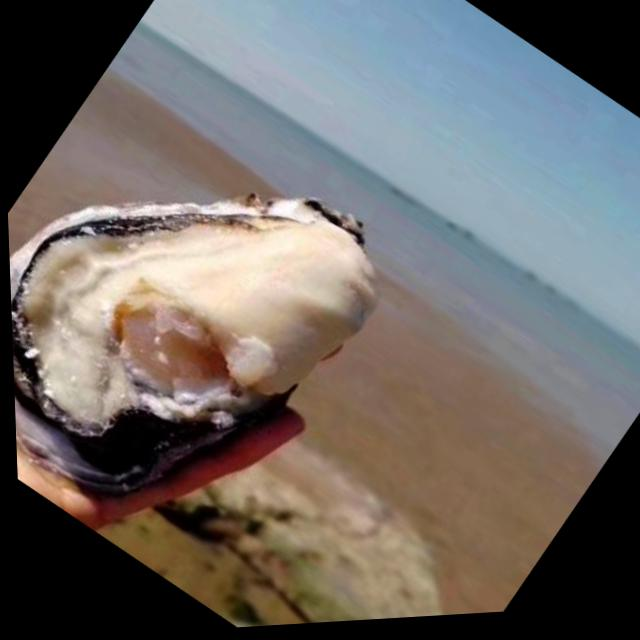Oyster-Open: (10, 193, 378, 492)
